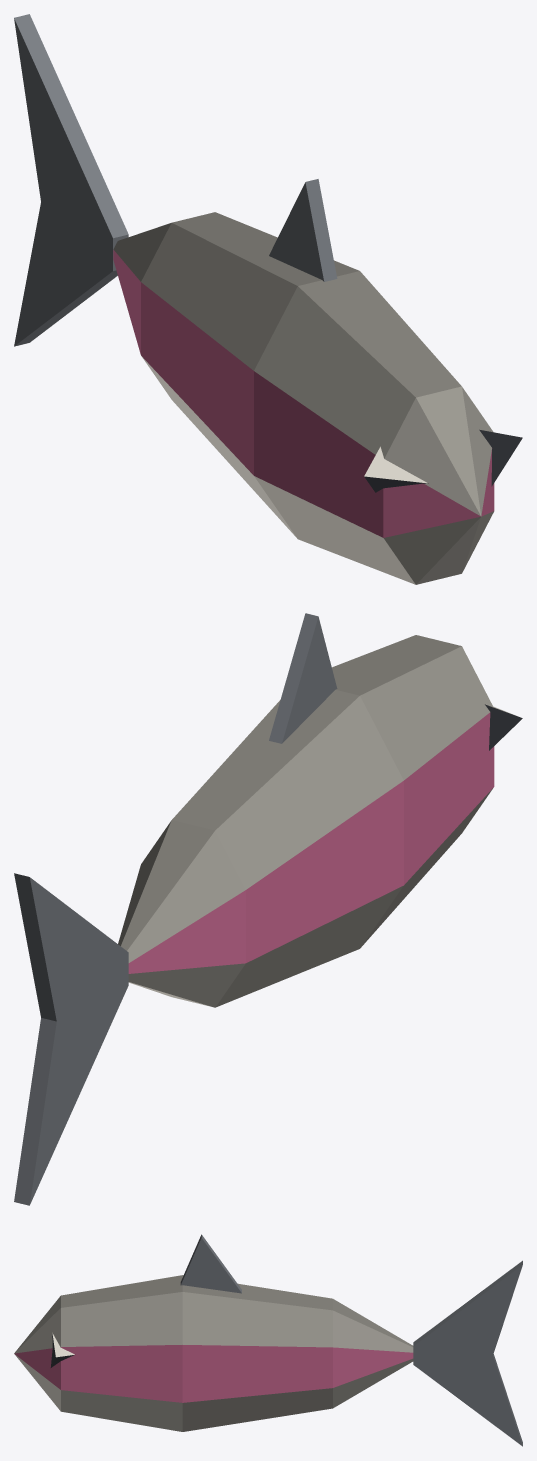
File: fish_trout.glb
The picture shows the model from 3 angles, top to bottom: view 1: azimuth 30°, elevation 25°; view 2: azimuth 150°, elevation 25°; view 3: azimuth 270°, elevation 25°; orthographic projection. The views are drawn at different scales.
Parts seen in each view (by area): view 1: fish_trout; view 2: fish_trout; view 3: fish_trout.
Boxes of the visible parts, box(x1,y1,x2,y2) form: fish_trout: box(14, 14, 522, 584); fish_trout: box(14, 613, 522, 1205); fish_trout: box(14, 1234, 522, 1446).
Bounding box in the file's own units: 0.0607 × 0.1375 × 0.3039.
